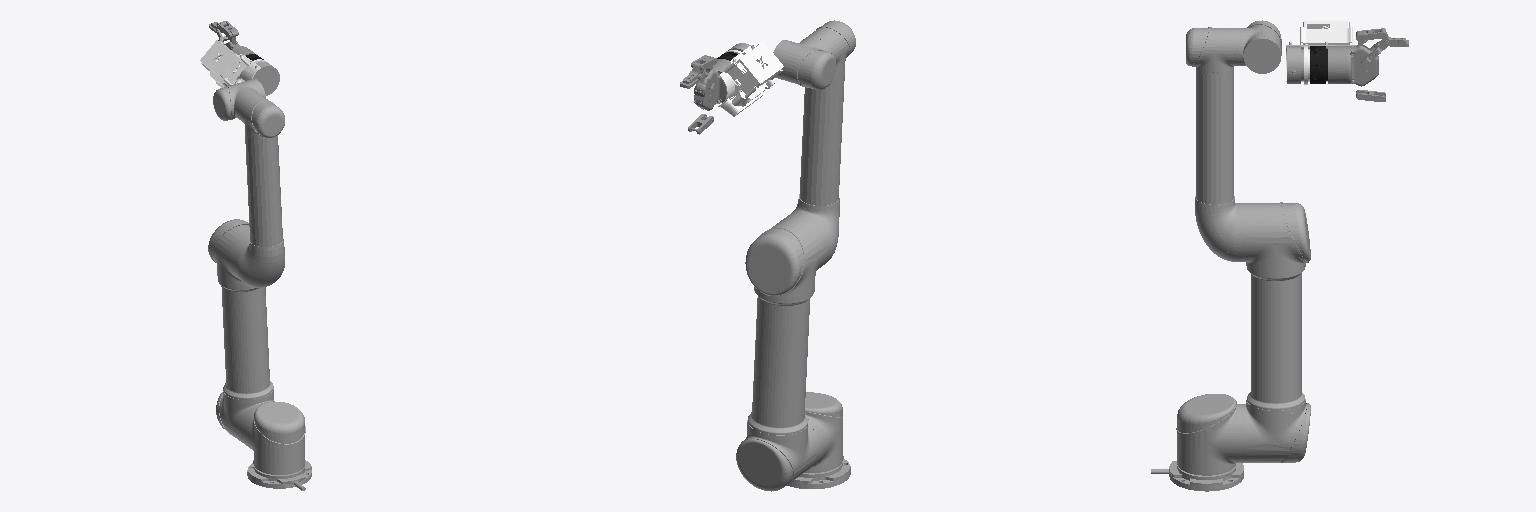
--- What the picture shows (computed from the rendered views, not written in the file) ---
3 views of the same robot in one strip: view 1: azimuth 30°, elevation 25°; view 2: azimuth 150°, elevation 25°; view 3: azimuth 270°, elevation 25° (orthographic).
Robot: ur5 — 24 links, 23 joints (12 revolute, 11 fixed); root link world; default pose: all joints at 0 but 1 set to mid-range because 0 is outside their limits (shoulder_lift_joint = -1.62).
Links seen in each view (by area): view 1: upper_arm_link, forearm_link, shoulder_link, camera_robotside, wrist_1_link, base_link, wrist_3_link; view 2: upper_arm_link, forearm_link, camera_robotside, wrist_1_link, shoulder_link, robotiq_85_base, base_link; view 3: upper_arm_link, forearm_link, shoulder_link, wrist_1_link, camera_robotside, robotiq_85_base, base_link, fts_robotside, wrist_3_link.
Link boxes in pixels (x1,y1,x2,y2): upper_arm_link: [208, 219, 274, 445]; forearm_link: [234, 92, 284, 287]; shoulder_link: [242, 402, 305, 474]; camera_robotside: [200, 40, 267, 87]; wrist_1_link: [213, 79, 265, 120]; base_link: [247, 460, 311, 490]; wrist_3_link: [253, 62, 279, 95]; upper_arm_link: [736, 214, 829, 491]; forearm_link: [788, 20, 855, 264]; camera_robotside: [718, 42, 783, 116]; wrist_1_link: [773, 38, 835, 89]; shoulder_link: [804, 392, 842, 472]; robotiq_85_base: [694, 61, 728, 110]; base_link: [787, 456, 850, 488]; upper_arm_link: [1243, 202, 1310, 462]; forearm_link: [1186, 27, 1242, 261]; shoulder_link: [1176, 394, 1242, 475]; wrist_1_link: [1239, 20, 1281, 73]; camera_robotside: [1286, 21, 1356, 84]; robotiq_85_base: [1335, 45, 1378, 86]; base_link: [1151, 461, 1243, 491]; fts_robotside: [1310, 46, 1327, 83]; wrist_3_link: [1287, 46, 1303, 83].
Size in the robot's own frame: 0.196 by 0.5072 by 0.9873 metres.
15 mesh visuals loaded from 19 distinct referenced files (15 Collada DAE); not drawn: 4 (reference not matched to a file when rendering).

robot.urdf — ur5:
<?xml version="1.0" ?>
<!-- =================================================================================== -->
<!-- |    This document was autogenerated by xacro from ur5_egomo_table_ori.urdf.xacro | -->
<!-- |    EDITING THIS FILE BY HAND IS NOT RECOMMENDED                                 | -->
<!-- =================================================================================== -->
<!-- =================================================================================== -->
<!-- |    This document was autogenerated by xacro from ur5_joint_limited_robot.urdf.xacro | -->
<!-- |    EDITING THIS FILE BY HAND IS NOT RECOMMENDED                                 | -->
<!-- =================================================================================== -->
<robot name="ur5" xmlns:xacro="http://www.ros.org/wiki/xacro">
  <!-- ur5 arm -->
  <!-- common stuff -->
  <gazebo>
    <plugin filename="libgazebo_ros_control.so" name="ros_control">
      <!--robotNamespace>/UR5/</robotNamespace-->
      <!--robotSimType>gazebo_ros_control/DefaultRobotHWSim</robotSimType-->
    </plugin>
    <!--
    <plugin name="gazebo_ros_power_monitor_controller" filename="libgazebo_ros_power_monitor.so">
      <alwaysOn>true</alwaysOn>
      <updateRate>1.0</updateRate>
      <timeout>5</timeout>
      <powerStateTopic>power_state</powerStateTopic>
      <powerStateRate>10.0</powerStateRate>
      <fullChargeCapacity>87.78</fullChargeCapacity>     
      <dischargeRate>-474</dischargeRate>
      <chargeRate>525</chargeRate>
      <dischargeVoltage>15.52</dischargeVoltage>
      <chargeVoltage>16.41</chargeVoltage>
    </plugin>
-->
  </gazebo>
  <!-- Inertia parameters -->
  <!-- This mass might be incorrect -->
  <!-- Kinematic model -->
  <!-- Properties from urcontrol.conf -->
  <!--
    DH for UR5:
    a = [0.00000, -0.42500, -0.39225,  0.00000,  0.00000,  0.0000]
    d = [0.089159,  0.00000,  0.00000,  0.10915,  0.09465,  0.0823]
    alpha = [ 1.570796327, 0, 0, 1.570796327, -1.570796327, 0 ]
    q_home_offset = [0, -1.570796327, 0, -1.570796327, 0, 0]
    joint_direction = [-1, -1, 1, 1, 1, 1]
    mass = [3.7000, 8.3930, 2.2750, 1.2190, 1.2190, 0.1879]
    center_of_mass = [ [0, -0.02561, 0.00193], [0.2125, 0, 0.11336], [0.11993, 0.0, 0.0265], [0, -0.0018, 0.01634], [0, 0.0018,0.01634], [0, 0, -0.001159] ]
  -->
  <!-- Arbitrary offsets for shoulder/elbow joints -->
  <!-- measured from model -->
  <!-- measured from model -->
  <!-- link lengths used in model -->
  <!--property name="shoulder_height" value="0.089159" /-->
  <!--property name="shoulder_offset" value="0.13585" /-->
  <!-- shoulder_offset - elbow_offset + wrist_1_length = 0.10915 -->
  <!--property name="upper_arm_length" value="0.42500" /-->
  <!--property name="elbow_offset" value="0.1197" /-->
  <!-- CAD measured -->
  <!--property name="forearm_length" value="0.39225" /-->
  <!--property name="wrist_1_length" value="0.093" /-->
  <!-- CAD measured -->
  <!--property name="wrist_2_length" value="0.09465" /-->
  <!-- In CAD this distance is 0.930, but in the spec it is 0.09465 -->
  <!--property name="wrist_3_length" value="0.0823" /-->
  <!-- manually measured -->
  <!-- manually measured -->
  <!-- manually measured -->
  <!-- manually measured -->
  <!-- manually measured -->
  <link name="base_link">
    <visual>
      <geometry>
        <mesh filename="package://egomo_ur5/meshes/ur5/visual/base.dae"/>
      </geometry>
      <material name="LightGrey">
        <color rgba="0.7 0.7 0.7 1.0"/>
      </material>
    </visual>
    <collision>
      <geometry>
        <mesh filename="package://egomo_ur5/meshes/ur5/collision/base.stl"/>
      </geometry>
    </collision>
    <inertial>
      <mass value="4.0"/>
      <origin rpy="0 0 0" xyz="0.0 0.0 0.0"/>
      <inertia ixx="0.00443333156" ixy="0.0" ixz="0.0" iyy="0.00443333156" iyz="0.0" izz="0.0072"/>
    </inertial>
  </link>
  <joint name="shoulder_pan_joint" type="revolute">
    <parent link="base_link"/>
    <child link="shoulder_link"/>
    <origin rpy="0.0 0.0 0.0" xyz="0.0 0.0 0.089159"/>
    <!--origin rpy="0.0 0.0 0.7853981625" xyz="0.0 0.0 0.089159"/-->
    <axis xyz="0 0 1"/>
    <limit effort="150.0" lower="-3.14159265" upper="3.14159265" velocity="3.15"/>
    <dynamics damping="0.0" friction="0.0"/>
  </joint>
  <link name="shoulder_link">
    <visual>
      <geometry>
        <mesh filename="package://egomo_ur5/meshes/ur5/visual/shoulder.dae"/>
      </geometry>
      <material name="LightGrey">
        <color rgba="0.7 0.7 0.7 1.0"/>
      </material>
    </visual>
    <collision>
      <geometry>
        <mesh filename="package://egomo_ur5/meshes/ur5/collision/shoulder.stl"/>
      </geometry>
    </collision>
    <inertial>
      <mass value="3.7"/>
      <origin rpy="0 0 0" xyz="0.0 0.0 0.0"/>
      <inertia ixx="0.010267495893" ixy="0.0" ixz="0.0" iyy="0.010267495893" iyz="0.0" izz="0.00666"/>
    </inertial>
  </link>
  <joint name="shoulder_lift_joint" type="revolute">
    <parent link="shoulder_link"/>
    <child link="upper_arm_link"/>
    <origin rpy="0.0 1.570796326795 0.0" xyz="0.0 0.13585 0.0"/>
    <axis xyz="0 1 0"/>
    <limit effort="150.0" lower="-3.14159265" upper="-0.1" velocity="3.15"/>
    <dynamics damping="0.0" friction="0.0"/>
  </joint>
  <link name="upper_arm_link">
    <visual>
      <geometry>
        <mesh filename="package://egomo_ur5/meshes/ur5/visual/upper_arm.dae"/>
      </geometry>
      <material name="LightGrey">
        <color rgba="0.7 0.7 0.7 1.0"/>
      </material>
    </visual>
    <collision>
      <geometry>
        <mesh filename="package://egomo_ur5/meshes/ur5/collision/upper_arm.stl"/>
      </geometry>
    </collision>
    <inertial>
      <mass value="8.393"/>
      <origin rpy="0 0 0" xyz="0.0 0.0 0.28"/>
      <inertia ixx="0.22689067591" ixy="0.0" ixz="0.0" iyy="0.22689067591" iyz="0.0" izz="0.0151074"/>
    </inertial>
  </link>
  <joint name="elbow_joint" type="revolute">
    <parent link="upper_arm_link"/>
    <child link="forearm_link"/>
    <origin rpy="0.0 0.0 0.0" xyz="0.0 -0.1197 0.425"/>
    <!--origin rpy="0.0 0.0 0.0" xyz="0.0 -0.1197 0.425"/-->
    <axis xyz="0 1 0"/>
    <limit effort="150.0" lower="-3" upper="3" velocity="3.15"/>
    <!-- +/- 175 deg -->
    <dynamics damping="0.0" friction="0.0"/>
  </joint>
  <link name="forearm_link">
    <visual>
      <geometry>
        <mesh filename="package://egomo_ur5/meshes/ur5/visual/forearm.dae"/>
      </geometry>
      <material name="LightGrey">
        <color rgba="0.7 0.7 0.7 1.0"/>
      </material>
    </visual>
    <collision>
      <geometry>
        <mesh filename="package://egomo_ur5/meshes/ur5/collision/forearm.stl"/>
      </geometry>
    </collision>
    <inertial>
      <mass value="2.275"/>
      <origin rpy="0 0 0" xyz="0.0 0.0 0.25"/>
      <inertia ixx="0.049443313556" ixy="0.0" ixz="0.0" iyy="0.049443313556" iyz="0.0" izz="0.004095"/>
    </inertial>
  </link>
  <joint name="wrist_1_joint" type="revolute">
    <parent link="forearm_link"/>
    <child link="wrist_1_link"/>
    <origin rpy="0.0 1.57079632679 0.0" xyz="0.0 0.0 0.39225"/>
    <!--origin rpy="0.0 1.570796326795 0.0" xyz="0.0 0.0 0.39225"/-->
    <axis xyz="0 1 0"/>
    <limit effort="28.0" lower="-3.92" upper="0.78" velocity="3.2"/>
    <!-- -225 deg to 45 deg -->
    <dynamics damping="0.0" friction="0.0"/>
  </joint>
  <link name="wrist_1_link">
    <visual>
      <geometry>
        <mesh filename="package://egomo_ur5/meshes/ur5/visual/wrist_1.dae"/>
      </geometry>
      <material name="LightGrey">
        <color rgba="0.7 0.7 0.7 1.0"/>
      </material>
    </visual>
    <collision>
      <geometry>
        <mesh filename="package://egomo_ur5/meshes/ur5/collision/wrist_1.stl"/>
      </geometry>
    </collision>
    <inertial>
      <mass value="1.219"/>
      <origin rpy="0 0 0" xyz="0.0 0.0 0.0"/>
      <inertia ixx="0.111172755531" ixy="0.0" ixz="0.0" iyy="0.111172755531" iyz="0.0" izz="0.21942"/>
    </inertial>
  </link>
  <joint name="wrist_2_joint" type="revolute">
    <parent link="wrist_1_link"/>
    <child link="wrist_2_link"/>
    <!--origin rpy="0.0 0.0 0.0" xyz="0.0 0.093 0.0"/-->
    <origin rpy="0.0 0.0 0.0" xyz="0.0 0.093 0.0"/>
    <axis xyz="0 0 1"/>
    <limit effort="28.0" lower="-3.14159265359" upper="3.14159265359" velocity="3.15"/>
    <dynamics damping="0.0" friction="0.0"/>
  </joint>
  <link name="wrist_2_link">
    <visual>
      <geometry>
        <mesh filename="package://egomo_ur5/meshes/ur5/visual/wrist_2.dae"/>
      </geometry>
      <material name="LightGrey">
        <color rgba="0.7 0.7 0.7 1.0"/>
      </material>
    </visual>
    <collision>
      <geometry>
        <mesh filename="package://egomo_ur5/meshes/ur5/collision/wrist_2.stl"/>
      </geometry>
    </collision>
    <inertial>
      <mass value="1.219"/>
      <origin rpy="0 0 0" xyz="0.0 0.0 0.0"/>
      <inertia ixx="0.111172755531" ixy="0.0" ixz="0.0" iyy="0.111172755531" iyz="0.0" izz="0.21942"/>
    </inertial>
  </link>
  <joint name="wrist_3_joint" type="revolute">
    <parent link="wrist_2_link"/>
    <child link="wrist_3_link"/>
    <!--origin rpy="0.0 0.0 0.0" xyz="0.0 0.0 0.09465"/-->
    <origin rpy="0.0 0.0 0.0" xyz="0.0 0.0 0.09465"/>
    <axis xyz="0 1 0"/>
    <limit effort="28.0" lower="-3.14159265359" upper="3.14159265359" velocity="3.15"/>
    <dynamics damping="0.0" friction="0.0"/>
  </joint>
  <link name="wrist_3_link">
    <visual>
      <geometry>
        <mesh filename="package://egomo_ur5/meshes/ur5/visual/wrist_3.dae"/>
      </geometry>
      <material name="LightGrey">
        <color rgba="0.7 0.7 0.7 1.0"/>
      </material>
    </visual>
    <collision>
      <geometry>
        <mesh filename="package://egomo_ur5/meshes/ur5/collision/wrist_3.stl"/>
      </geometry>
    </collision>
    <inertial>
      <mass value="0.1879"/>
      <origin rpy="0 0 0" xyz="0.0 0.0 0.0"/>
      <inertia ixx="0.0171364731454" ixy="0.0" ixz="0.0" iyy="0.0171364731454" iyz="0.0" izz="0.033822"/>
    </inertial>
  </link>
  <joint name="ee_fixed_joint" type="fixed">
    <parent link="wrist_3_link"/>
    <child link="ee_link"/>
    <!--origin rpy="-1.570796326795 0.0 0" xyz="0.0 0.0823 0.0"/-->
    <origin rpy="-1.570796326795 0.0 0" xyz="0.0 0.0823 0.0"/>
  </joint>
  <link name="ee_link">
    <collision>
      <geometry>
        <box size="0.01 0.01 0.01"/>
      </geometry>
      <origin rpy="0 0 0" xyz="-0.01 0 0"/>
    </collision>
  </link>
  <!--TRANSMISSION FOR THE ARM-->
  <transmission name="shoulder_pan_trans">
    <type>transmission_interface/SimpleTransmission</type>
    <joint name="shoulder_pan_joint">
      <hardwareInterface>PositionJointInterface</hardwareInterface>
    </joint>
    <actuator name="shoulder_pan_motor">
      <mechanicalReduction>1</mechanicalReduction>
    </actuator>
  </transmission>
  <transmission name="shoulder_lift_trans">
    <type>transmission_interface/SimpleTransmission</type>
    <joint name="shoulder_lift_joint">
      <hardwareInterface>PositionJointInterface</hardwareInterface>
    </joint>
    <actuator name="shoulder_lift_motor">
      <mechanicalReduction>1</mechanicalReduction>
    </actuator>
  </transmission>
  <transmission name="elbow_trans">
    <type>transmission_interface/SimpleTransmission</type>
    <joint name="elbow_joint">
      <hardwareInterface>PositionJointInterface</hardwareInterface>
    </joint>
    <actuator name="elbow_motor">
      <mechanicalReduction>1</mechanicalReduction>
    </actuator>
  </transmission>
  <transmission name="wrist_1_trans">
    <type>transmission_interface/SimpleTransmission</type>
    <joint name="wrist_1_joint">
      <hardwareInterface>PositionJointInterface</hardwareInterface>
    </joint>
    <actuator name="wrist_1_motor">
      <mechanicalReduction>1</mechanicalReduction>
    </actuator>
  </transmission>
  <transmission name="wrist_2_trans">
    <type>transmission_interface/SimpleTransmission</type>
    <joint name="wrist_2_joint">
      <hardwareInterface>PositionJointInterface</hardwareInterface>
    </joint>
    <actuator name="wrist_2_motor">
      <mechanicalReduction>1</mechanicalReduction>
    </actuator>
  </transmission>
  <transmission name="wrist_3_trans">
    <type>transmission_interface/SimpleTransmission</type>
    <joint name="wrist_3_joint">
      <hardwareInterface>PositionJointInterface</hardwareInterface>
    </joint>
    <actuator name="wrist_3_motor">
      <mechanicalReduction>1</mechanicalReduction>
    </actuator>
  </transmission>
  <link name="tool0"/>
  <joint name="wrist_3_link-tool0_fixed_joint" type="fixed">
    <origin rpy="-1.570796326795 0 0" xyz="0 0.0823 0"/>
    <parent link="wrist_3_link"/>
    <child link="tool0"/>
  </joint>
  <link name="world"/>
  <joint name="world_joint" type="fixed">
    <parent link="world"/>
    <child link="base_link"/>
    <origin rpy="0.0 0.0 0.0" xyz="0.0 0.0 0.0"/>
  </joint>
  <!-- ========================================== -->
  <!-- force torque sensor (robotiq) -->
  <link name="fts_robotside">
    <inertial>
      <origin rpy="0 0 0" xyz="0 0 0"/>
      <mass value="0.65"/>
      <inertia ixx="0.000661171875" ixy="0" ixz="0" iyy="0.000661171875" iyz="0" izz="0.00117"/>
    </inertial>
    <visual>
      <origin rpy="0 3.14159265359 -1.570796326795" xyz="0 0 0.0375"/>
      <geometry>
        <mesh filename="package://egomo_ur5/meshes/robotiq-ft300/visual/ft300.dae"/>
      </geometry>
    </visual>
    <collision>
      <origin rpy="0 3.14159265359 -1.570796326795" xyz="0 0 0.0375"/>
      <geometry>
        <mesh filename="package://egomo_ur5/meshes/robotiq-ft300/collision/ft300.stl"/>
      </geometry>
    </collision>
  </link>
  <!-- virtual measurement frame -->
  <joint name="measurment_joint" type="fixed">
    <origin rpy="0 0 0" xyz="0 0 0.01625"/>
    <parent link="fts_robotside"/>
    <child link="robotiq_force_torque_frame_id"/>
  </joint>
  <link name="robotiq_force_torque_frame_id"/>
  <!-- toolside frame -->
  <joint name="toolside_joint" type="fixed">
    <origin rpy="0 0 0" xyz="0 0 0.0375"/>
    <parent link="fts_robotside"/>
    <child link="fts_toolside"/>
  </joint>
  <link name="fts_toolside"/>
  <!-- ========================================== -->
  <link name="camera_robotside">
    <visual>
      <origin rpy="0 0 0" xyz="0 0 0"/>
      <geometry>
        <mesh filename="package://egomo_ur5/meshes/egomo-1/visual/egomo-1.dae"/>
      </geometry>
      <material name="white">
        <color rgba="1 1 1 1"/>
      </material>
    </visual>
    <collision>
      <origin rpy="0 0 0" xyz="0 0 0"/>
      <geometry>
        <mesh filename="package://egomo_ur5/meshes/egomo-1/collision/egomo-1.stl"/>
      </geometry>
    </collision>
  </link>
  <!-- Mount the force torque sensor (fts) to the robot -->
  <joint name="fts_to_robot" type="fixed">
    <parent link="tool0"/>
    <child link="fts_robotside"/>
    <origin rpy="0 0 0" xyz="0 0 0.011"/>
  </joint>
  <!-- Mount the cameras to the robot -->
  <joint name="camera_to_robot" type="fixed">
    <parent link="tool0"/>
    <child link="camera_robotside"/>
    <origin rpy="0 0 0" xyz="0 0 0"/>
  </joint>
  <!-- ========================================== -->
  <link name="robotiq_85_coupling">
    <visual>
      <geometry>
        <mesh filename="package://egomo_ur5/meshes/robotiq-2-finger-85/visual/gripper_coupling.dae"/>
      </geometry>
      <origin rpy="0 0 3.14159265359" xyz="0 0 0"/>
    </visual>
    <collision>
      <geometry>
        <mesh filename="package://egomo_ur5/meshes/robotiq-2-finger-85/collision/gripper_coupling.stl"/>
      </geometry>
      <origin rpy="0 0 3.14159265359" xyz="0 0 0"/>
    </collision>
  </link>
  <joint name="robotiq_85_base_joint" type="fixed">
    <parent link="robotiq_85_coupling"/>
    <child link="robotiq_85_base"/>
    <origin rpy="0 0 0" xyz="0 0 0.0109"/>
  </joint>
  <link name="robotiq_85_base">
    <visual>
      <geometry>
        <mesh filename="package://egomo_ur5/meshes/robotiq-2-finger-85/visual/gripper_base.dae"/>
      </geometry>
      <origin rpy="0 0 3.14159265359" xyz="0 0 0"/>
    </visual>
    <collision>
      <geometry>
        <mesh filename="package://egomo_ur5/meshes/robotiq-2-finger-85/collision/gripper_base.stl"/>
      </geometry>
      <origin rpy="0 0 3.14159265359" xyz="0 0 0"/>
    </collision>
  </link>
  <link name="robotiq_85_finger_right_1">
    <visual>
      <geometry>
        <mesh filename="package://egomo_ur5/meshes/robotiq-2-finger-85/visual/gripper_finger_right_1.dae"/>
      </geometry>
      <origin rpy="0 0 3.14159265359" xyz="-0.0305864 0 -0.0549191"/>
    </visual>
    <collision>
      <geometry>
        <mesh filename="package://egomo_ur5/meshes/robotiq-2-finger-85/collision/gripper_finger_right_1.stl"/>
      </geometry>
      <origin rpy="0 0 3.14159265359" xyz="-0.0305864 0 -0.0549191"/>
    </collision>
  </link>
  <link name="robotiq_85_finger_right_2">
    <visual>
      <geometry>
        <mesh filename="package://egomo_ur5/meshes/robotiq-2-finger-85/visual/gripper_finger_right_2.dae"/>
      </geometry>
      <origin rpy="0 0 3.14159265359" xyz="-0.0621231 0 -0.0511592"/>
    </visual>
    <collision>
      <geometry>
        <mesh filename="package://egomo_ur5/meshes/robotiq-2-finger-85/collision/gripper_finger_right_2.stl"/>
      </geometry>
      <origin rpy="0 0 3.14159265359" xyz="-0.0621231 0 -0.0511592"/>
    </collision>
  </link>
  <link name="robotiq_85_finger_right_3">
    <visual>
      <geometry>
        <mesh filename="package://egomo_ur5/meshes/robotiq-2-finger-85/visual/gripper_finger_right_3.dae"/>
      </geometry>
      <origin rpy="0 0 3.14159265359" xyz="-0.0127161 0 -0.0613987"/>
    </visual>
    <collision>
      <geometry>
        <mesh filename="package://egomo_ur5/meshes/robotiq-2-finger-85/collision/gripper_finger_right_3.stl"/>
      </geometry>
      <origin rpy="0 0 3.14159265359" xyz="-0.0127161 0 -0.0613987"/>
    </collision>
  </link>
  <link name="robotiq_85_finger_right_4">
    <visual>
      <geometry>
        <mesh filename="package://egomo_ur5/meshes/robotiq-2-finger-85/visual/gripper_finger_right_4.dae"/>
      </geometry>
      <origin rpy="0 0 3.14159265359" xyz="-0.0498492 0 -0.1048415"/>
    </visual>
    <collision>
      <geometry>
        <mesh filename="package://egomo_ur5/meshes/robotiq-2-finger-85/collision/gripper_finger_right_4.stl"/>
      </geometry>
      <origin rpy="0 0 3.14159265359" xyz="-0.0498492 0 -0.1048415"/>
    </collision>
  </link>
  <link name="robotiq_85_finger_left_1">
    <visual>
      <geometry>
        <mesh filename="package://egomo_ur5/meshes/robotiq-2-finger-85/visual/gripper_finger_left_1.dae"/>
      </geometry>
      <origin rpy="0 0 3.14159265359" xyz="0.0305864 0 -0.0549191"/>
    </visual>
    <collision>
      <geometry>
        <mesh filename="package://egomo_ur5/meshes/robotiq-2-finger-85/collision/gripper_finger_left_1.stl"/>
      </geometry>
      <origin rpy="0 0 3.14159265359" xyz="0.0305864 0 -0.0549191"/>
    </collision>
  </link>
  <link name="robotiq_85_finger_left_2">
    <visual>
      <geometry>
        <mesh filename="package://egomo_ur5/meshes/robotiq-2-finger-85/visual/gripper_finger_left_2.dae"/>
      </geometry>
      <origin rpy="0 0 3.14159265359" xyz="0.0621231 0 -0.0511592"/>
    </visual>
    <collision>
      <geometry>
        <mesh filename="package://egomo_ur5/meshes/robotiq-2-finger-85/collision/gripper_finger_left_2.stl"/>
      </geometry>
      <origin rpy="0 0 3.14159265359" xyz="0.0621231 0 -0.0511592"/>
    </collision>
  </link>
  <link name="robotiq_85_finger_left_3">
    <visual>
      <geometry>
        <mesh filename="package://egomo_ur5/meshes/robotiq-2-finger-85/visual/gripper_finger_left_3.dae"/>
      </geometry>
      <origin rpy="0 0 3.14159265359" xyz="0.0127161 0 -0.0613987"/>
    </visual>
    <collision>
      <geometry>
        <mesh filename="package://egomo_ur5/meshes/robotiq-2-finger-85/collision/gripper_finger_left_3.stl"/>
      </geometry>
      <origin rpy="0 0 3.14159265359" xyz="0.0127161 0 -0.0613987"/>
    </collision>
  </link>
  <link name="robotiq_85_finger_left_4">
    <visual>
      <geometry>
        <mesh filename="package://egomo_ur5/meshes/robotiq-2-finger-85/visual/gripper_finger_left_4.dae"/>
      </geometry>
      <origin rpy="0 0 3.14159265359" xyz="0.0498492 0 -0.1048415"/>
    </visual>
    <collision>
      <geometry>
        <mesh filename="package://egomo_ur5/meshes/robotiq-2-finger-85/collision/gripper_finger_left_4.stl"/>
      </geometry>
      <origin rpy="0 0 3.14159265359" xyz="0.0498492 0 -0.1048415"/>
    </collision>
  </link>
    <joint name="robotiq_85_finger_right_1_joint" type="revolute">
    <parent link="robotiq_85_base"/>
    <child link="robotiq_85_finger_right_1"/>
    <axis xyz="0 -1 0"/>
    <origin rpy="0 0 0" xyz="0.0305864 0 0.0549191"/>
    <limit effort="1000" lower="0" upper="0.811" velocity="2.0"/>
  </joint>
  <joint name="robotiq_85_finger_right_2_joint" type="fixed">
    <parent link="robotiq_85_finger_right_1"/>
    <child link="robotiq_85_finger_right_2"/>
    <axis xyz="0 1 0"/>
    <origin rpy="0 0 0" xyz="0.0315367 0 -0.0037599"/>
  </joint>
  <joint name="robotiq_85_finger_right_3_joint" type="revolute">
    <parent link="robotiq_85_base"/>
    <child link="robotiq_85_finger_right_3"/>
    <axis xyz="0 1 0"/>
    <origin rpy="0 0 0" xyz="0.0127161 0 0.0613987"/>
    <limit effort="1000" lower="0" upper="0.811" velocity="2.0"/>
    <mimic joint="robotiq_85_finger_right_1_joint" multiplier="-1" offset="0"/>
  </joint>
  <joint name="robotiq_85_finger_right_4_joint" type="revolute">
    <parent link="robotiq_85_finger_right_3"/>
    <child link="robotiq_85_finger_right_4"/>
    <axis xyz="0 1 0"/>
    <origin rpy="0 0 0" xyz="0.0371331 0 0.0434428"/> 
    <mimic joint="robotiq_85_finger_right_1_joint" multiplier="1" offset="0"/>
    <limit effort="1000" lower="-0.811" upper="0" velocity="2.0"/>
  </joint>
  <joint name="robotiq_85_finger_left_1_joint" type="revolute">
    <parent link="robotiq_85_base"/>
    <child link="robotiq_85_finger_left_1"/>
    <axis xyz="0 1 0"/>
    <origin rpy="0 0 0" xyz="-0.0305864 0 0.0549191"/>
    <mimic joint="robotiq_85_finger_right_1_joint" multiplier="1" offset="0"/>
    <limit effort="1000" lower="-0.811" upper="0" velocity="2.0"/>
  </joint>
  <joint name="robotiq_85_finger_left_2_joint" type="fixed">
    <parent link="robotiq_85_finger_left_1"/>
    <child link="robotiq_85_finger_left_2"/>
    <axis xyz="0 1 0"/>
    <origin rpy="0 0 0" xyz="-0.0315367 0 -0.0037599"/>
  </joint>
  <joint name="robotiq_85_finger_left_3_joint" type="revolute">
    <parent link="robotiq_85_base"/>
    <child link="robotiq_85_finger_left_3"/>
    <axis xyz="0 1 0"/>
    <origin rpy="0 0 0" xyz="-0.0127161 0 0.0613987"/>
    <mimic joint="robotiq_85_finger_right_1_joint" multiplier="1" offset="0"/>
    <limit effort="1000" lower="-0.811" upper="0" velocity="2.0"/>
  </joint>
  <joint name="robotiq_85_finger_left_4_joint" type="revolute">
    <parent link="robotiq_85_finger_left_3"/>
    <child link="robotiq_85_finger_left_4"/>
    <axis xyz="0 1 0"/>
    <origin rpy="0 0 0" xyz="-0.0371331 0 0.0434428"/>
    <mimic joint="robotiq_85_finger_right_1_joint" multiplier="-1" offset="0"/>
    <limit effort="1000" lower="0" upper="0.811" velocity="2.0"/>
  </joint>
  <!--transmission name="robotiq_85_finger_right_1_trans">
    <type>transmission_interface/SimpleTransmission</type>
    <joint name="robotiq_85_finger_right_1_joint">
      <hardwareInterface>EffortJointInterface</hardwareInterface>
    </joint>
    <actuator name="robotiq_85_finger_right_1_motor">
      <hardwareInterface>EffortJointInterface</hardwareInterface>
      <mechanicalReduction>1</mechanicalReduction>
    </actuator>
  </transmission-->
  <!-- ========================================== -->
  <!-- Mount the gripper to the force torque sensor -->
  <joint name="gripper_to_fts" type="fixed">
    <parent link="fts_toolside"/>
    <child link="robotiq_85_coupling"/>
    <origin rpy="0 0 0" xyz="0 0 -0.003"/>
  </joint>
</robot>
